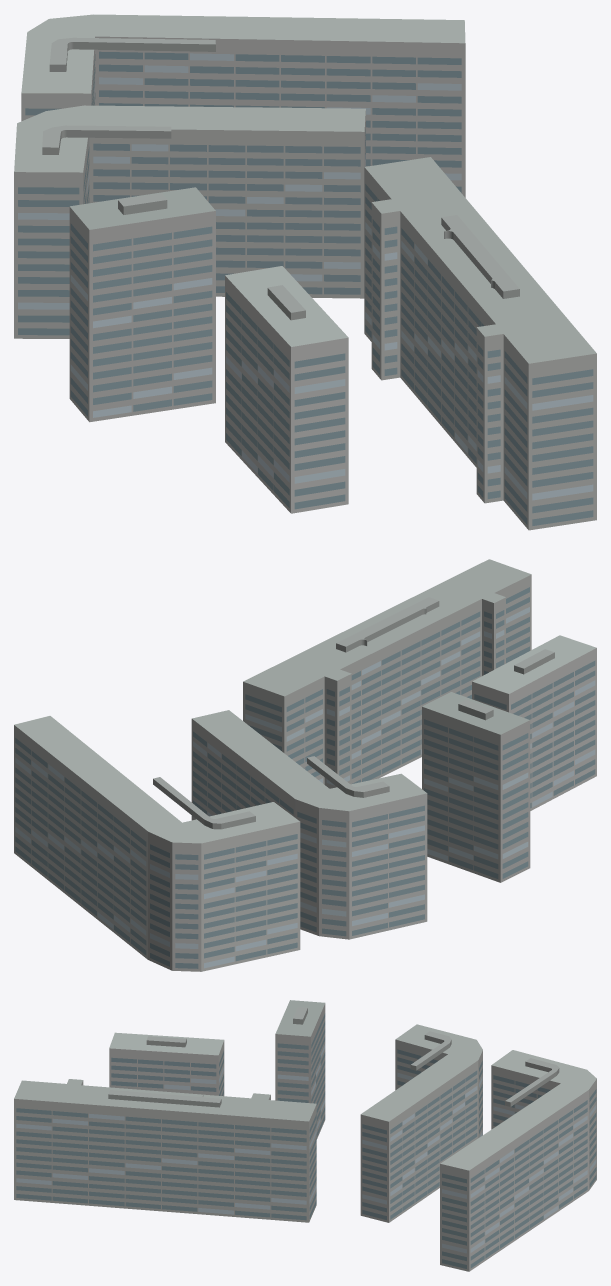
File: apt-a15282810.glb
3 views of the same model, one above another, from view 1: azimuth 30°, elevation 25°; view 2: azimuth 150°, elevation 25°; view 3: azimuth 270°, elevation 25° (orthographic). The views are drawn at different scales.
Parts seen in each view (by area): view 1: apt-a15282810; view 2: apt-a15282810; view 3: apt-a15282810.
Part boxes in pixels (x1,y1,x2,y2): apt-a15282810: (14,14,596,530); apt-a15282810: (14,559,596,971); apt-a15282810: (14,1000,596,1271).
Bounding box in the file's own units: 130 × 47.81 × 207.
